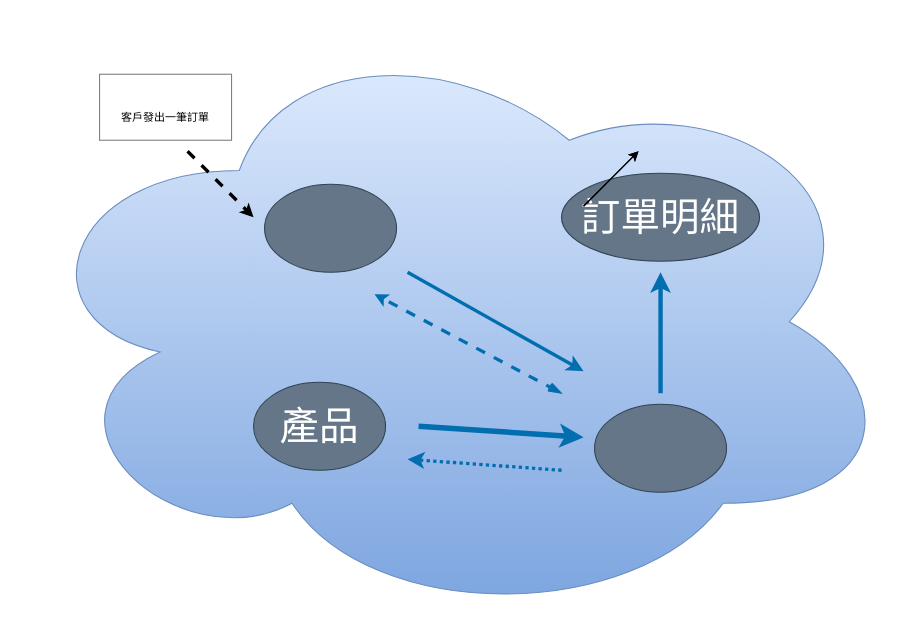
The diagram is 919 pixels wide and 644 high, and some of its shapes have lost their labels. The centre of each missing label's shape, as x and y in pixels:
"客戶" goes at pixel 330 227.
"訂單" goes at pixel 660 447.
